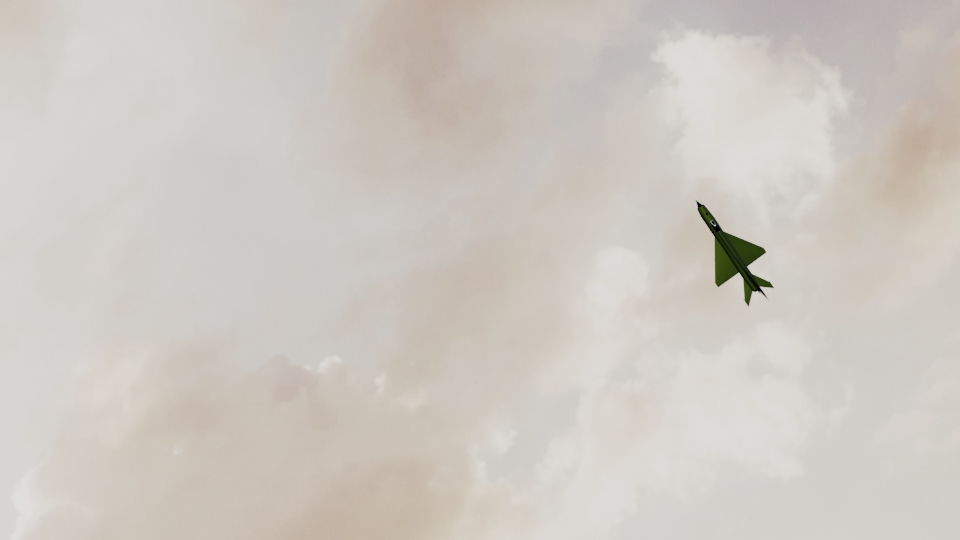plane: (696, 200, 776, 304)
